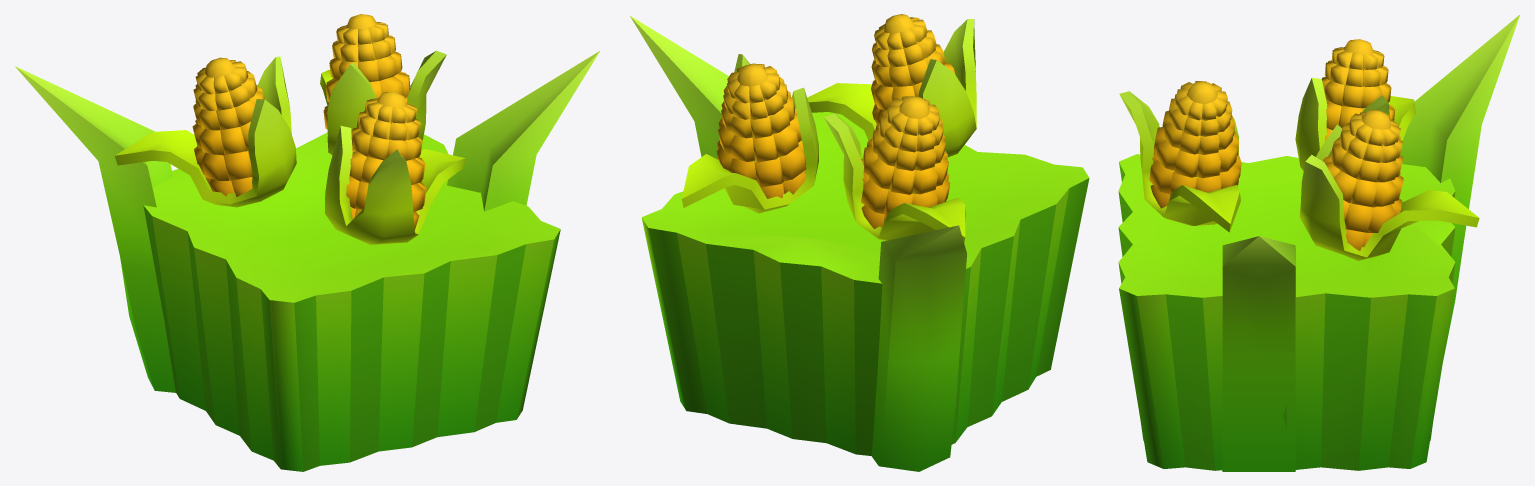
The model's file is Farm_Crop_Corn_Step_03.glb.
The picture shows the model from 3 angles, left to right: view 1: azimuth 30°, elevation 25°; view 2: azimuth 150°, elevation 25°; view 3: azimuth 270°, elevation 25°; orthographic projection.
Visible parts, largest first — view 1: Farm_Crop_Corn_Step_03; view 2: Farm_Crop_Corn_Step_03; view 3: Farm_Crop_Corn_Step_03.
Part boxes in pixels (x1,y1,x2,y2): Farm_Crop_Corn_Step_03: (15, 14, 599, 471); Farm_Crop_Corn_Step_03: (630, 14, 1089, 471); Farm_Crop_Corn_Step_03: (1118, 14, 1520, 471).
Size of the model in its own units: 3.12 by 2.2 by 2.39.
1 material, 1 textured.
